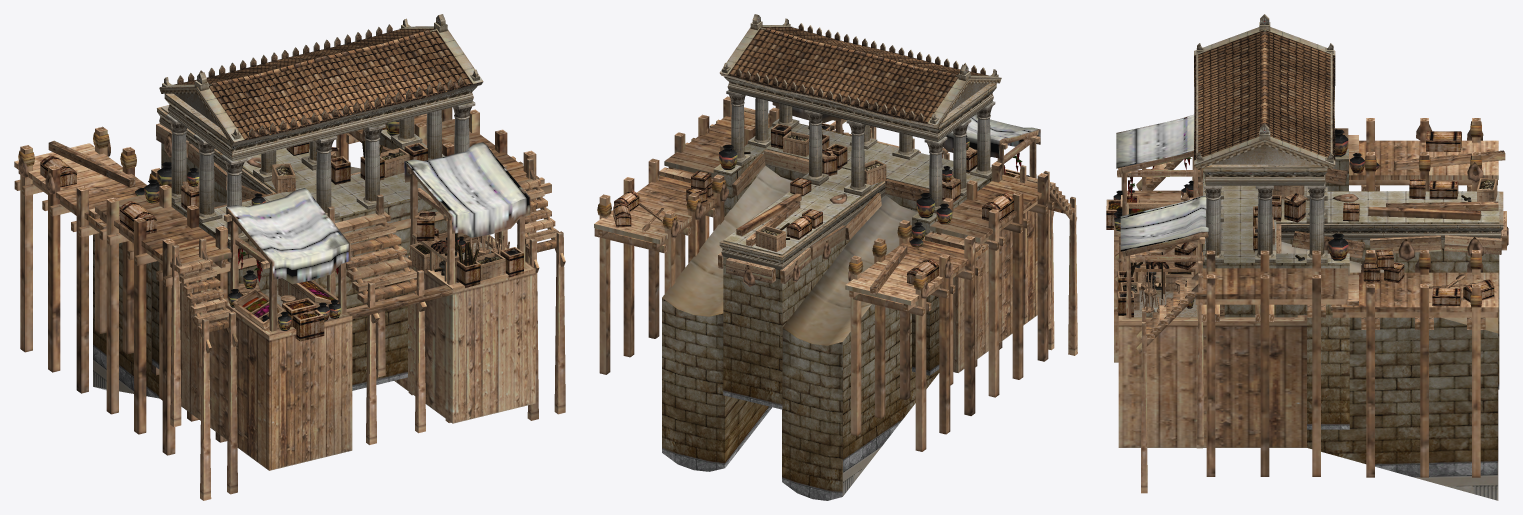
Rendered from sele_dock.glb.
3 views of the same model, side by side, from view 1: azimuth 30°, elevation 25°; view 2: azimuth 150°, elevation 25°; view 3: azimuth 270°, elevation 25° (orthographic). The views are drawn at different scales.
Visible parts, largest first — view 1: sele_dock_part0; view 2: sele_dock_part0; view 3: sele_dock_part0.
Part boxes in pixels (x1,y1,x2,y2): sele_dock_part0: (14,14,565,500); sele_dock_part0: (594,14,1077,500); sele_dock_part0: (1106,14,1508,500).
Size of the model in its own units: 4.8 by 4.99 by 4.62.
Materials: 1 (1 with a texture image).
